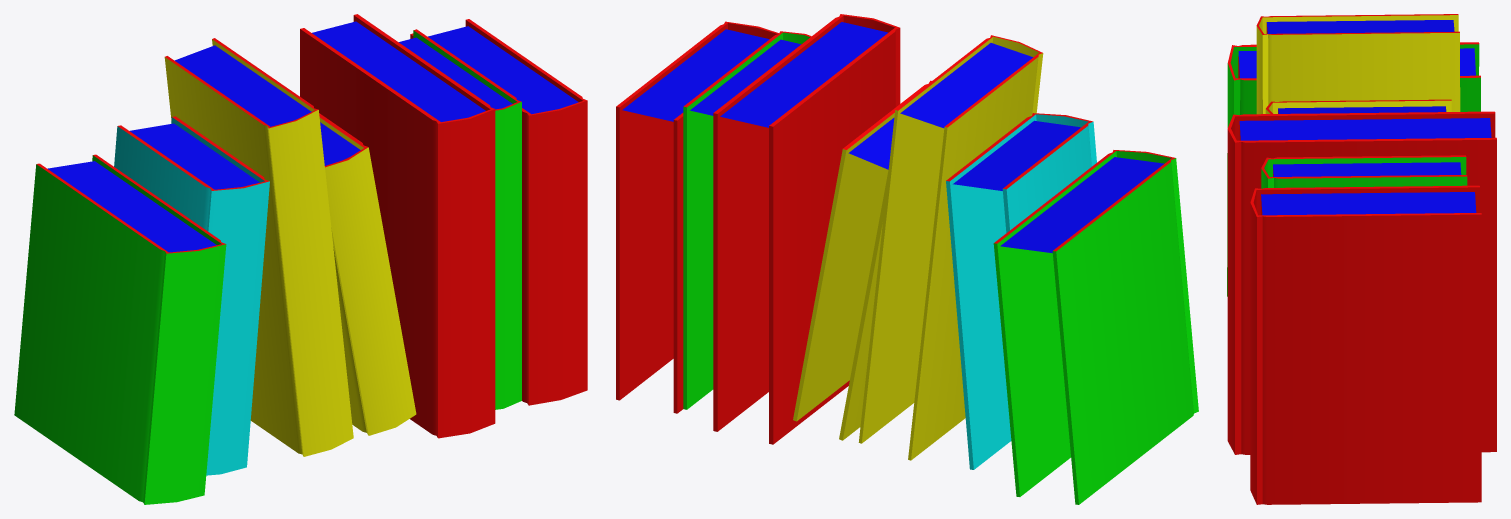
The model's file is Short.fbx.
3 views of the same model, side by side, from view 1: azimuth 30°, elevation 25°; view 2: azimuth 150°, elevation 25°; view 3: azimuth 270°, elevation 25° (orthographic).
Visible parts, largest first — view 1: book.005; view 2: book.005; view 3: book.005.
Part boxes in pixels (<box>): book.005: <box>14,14,587,504</box>; book.005: <box>616,14,1198,504</box>; book.005: <box>1227,14,1496,504</box>.
Bounding box in the file's own units: 89.85 × 63.9 × 45.81.
